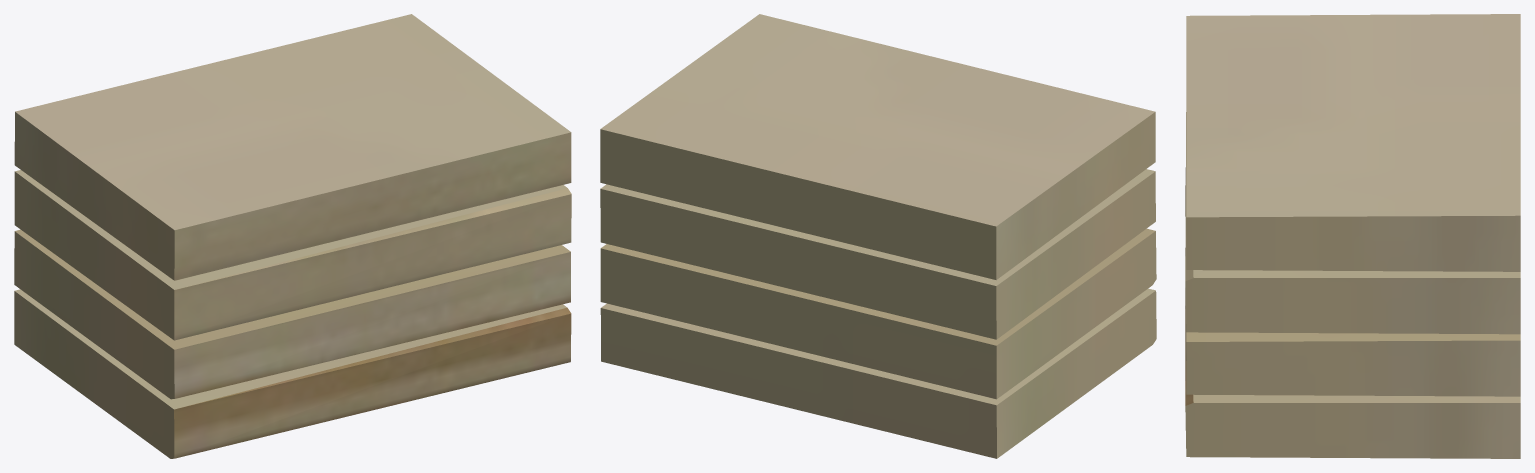
The model's file is book2_h5.dae.
3 views of the same model, side by side, from view 1: azimuth 30°, elevation 25°; view 2: azimuth 150°, elevation 25°; view 3: azimuth 270°, elevation 25° (orthographic). The views are drawn at different scales.
Visible parts, largest first — view 1: node; view 2: node; view 3: node.
Boxes of the visible parts, box(x1,y1,x2,y2) form: node: box(14, 14, 571, 458); node: box(600, 14, 1156, 458); node: box(1185, 14, 1520, 458).
Size of the model in its own units: 0.1721 by 0.0966 by 0.1201.
Materials: 1 (1 with a texture image).
